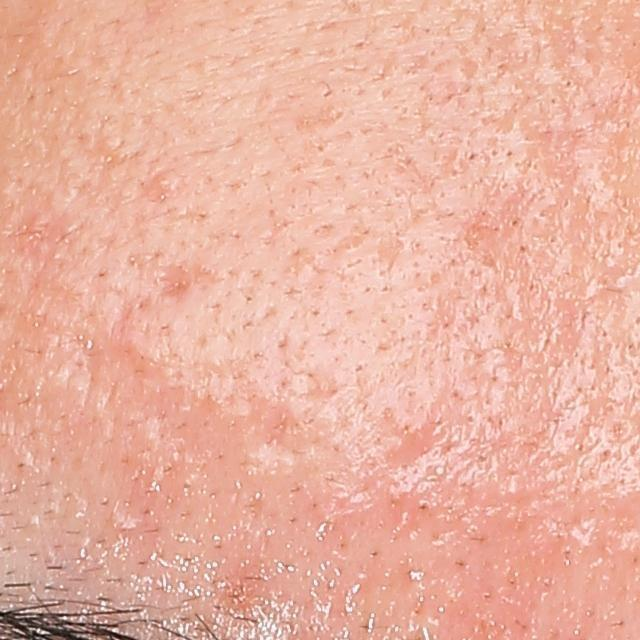atrophic_scar: (251, 402, 305, 470), (158, 266, 195, 300)
comedo: (151, 171, 171, 194)
